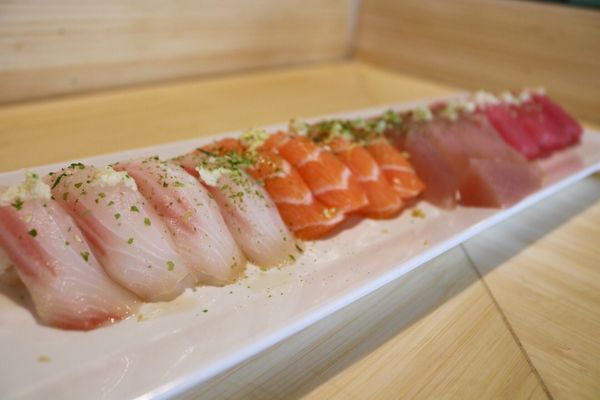curry: (0, 2, 600, 391)
sandwich: (0, 101, 514, 327)
